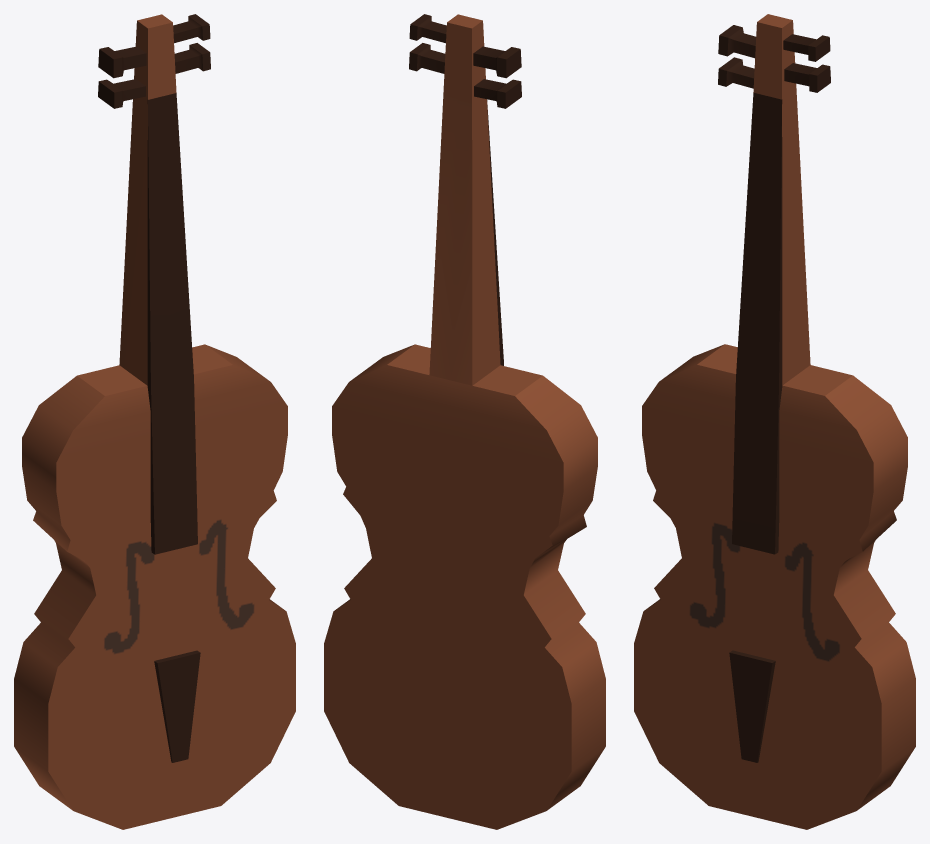
The model's file is violin.fbx.
3 views of the same model, side by side, from view 1: azimuth 30°, elevation 25°; view 2: azimuth 150°, elevation 25°; view 3: azimuth 330°, elevation 25° (orthographic).
Visible parts, largest first — view 1: pCube1; view 2: pCube1; view 3: pCube1.
Part boxes in pixels (x1=…): pCube1: x1=14, y1=14, x2=295, y2=829; pCube1: x1=324, y1=14, x2=605, y2=829; pCube1: x1=634, y1=14, x2=915, y2=829.
Bounding box in the file's own units: 2.49 × 7.55 × 0.745.
1 material, 1 textured.
